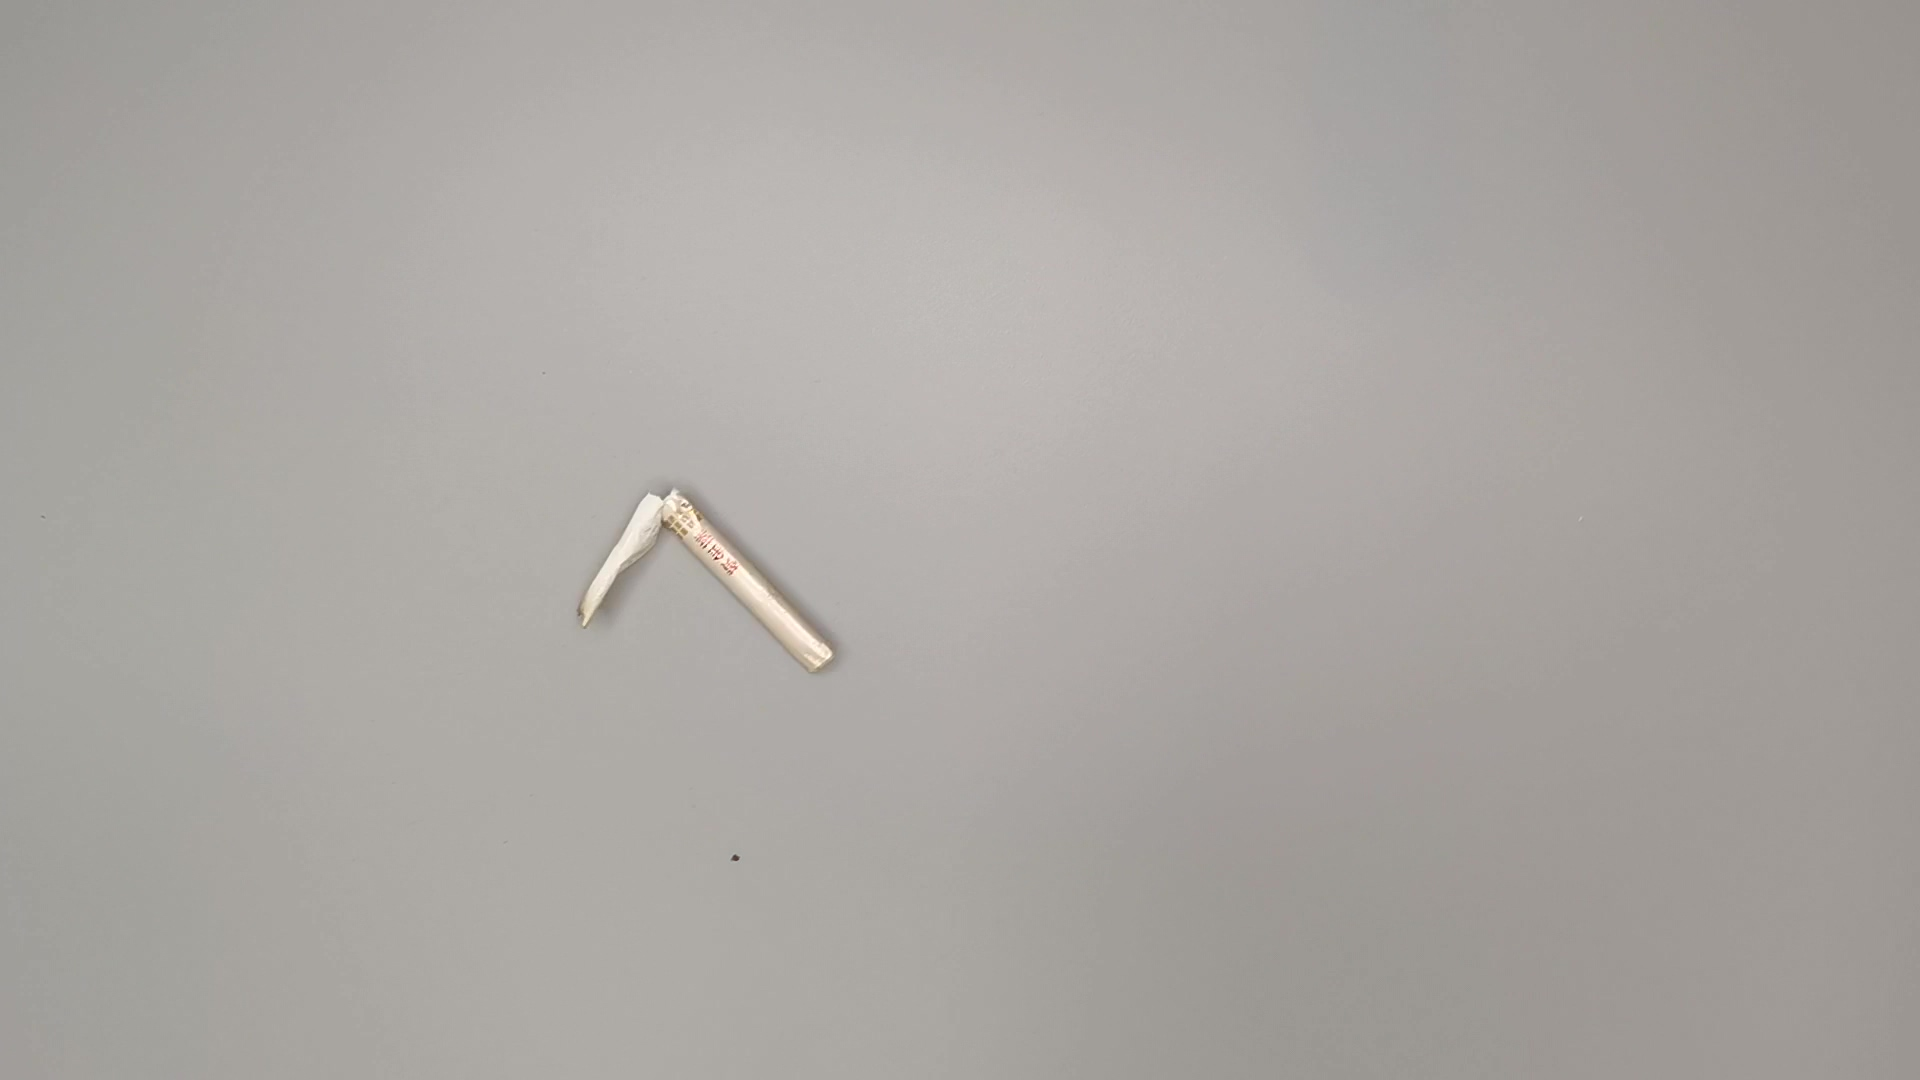cigarette: (575, 483, 841, 687)
